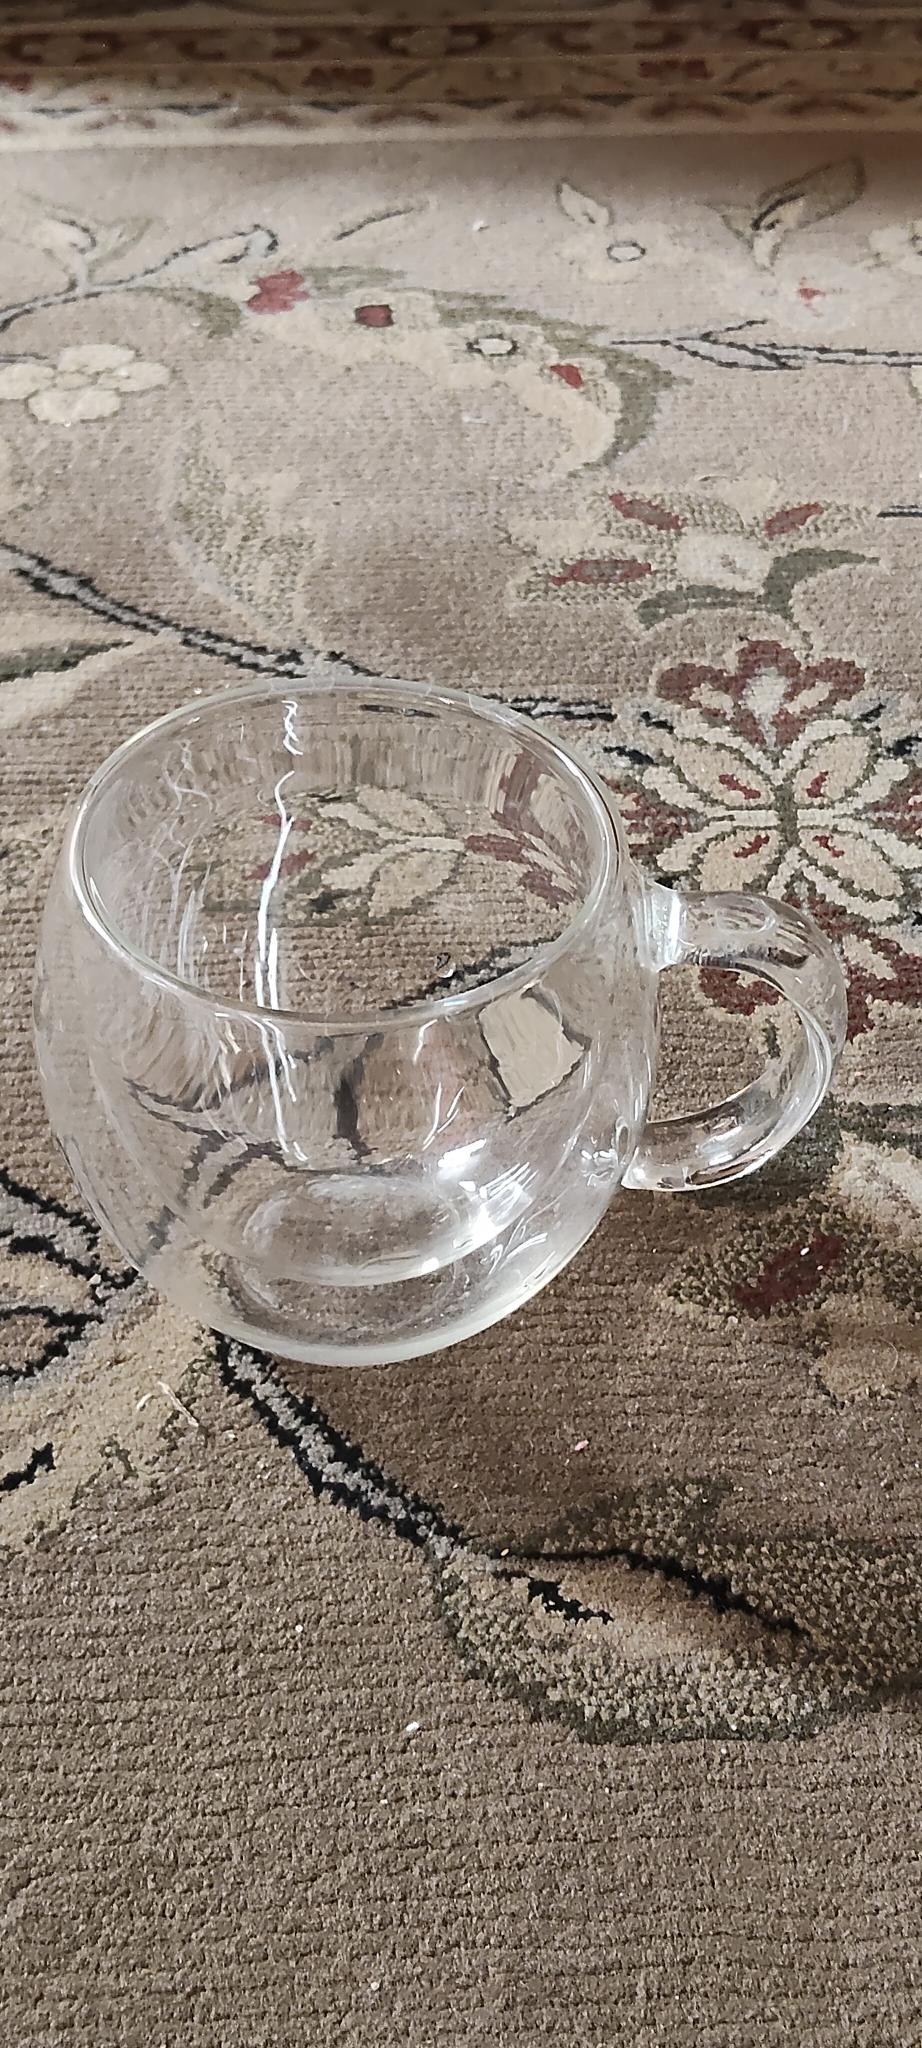Mug: (30, 686, 820, 1362)
